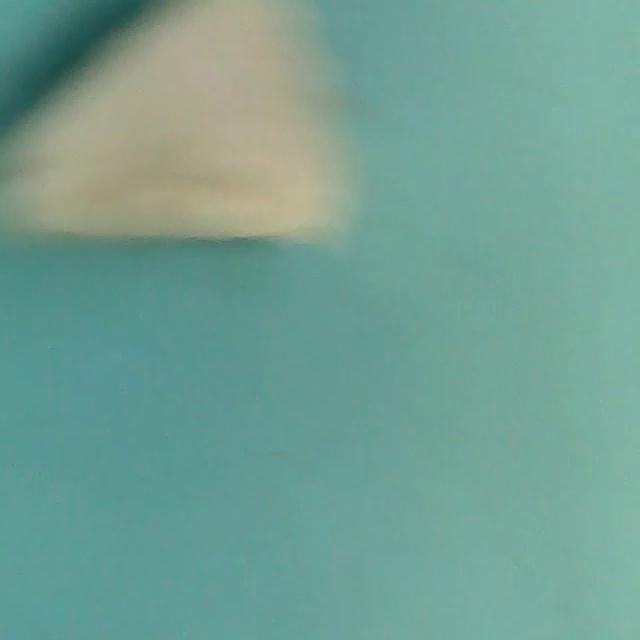rock: (2, 3, 370, 260)
